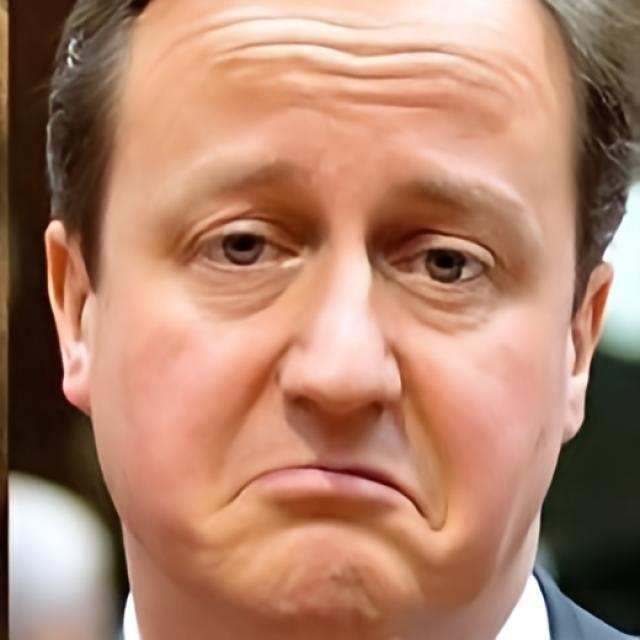sad: (93, 0, 570, 638)
